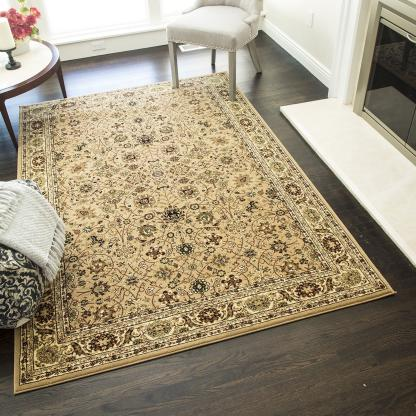Carpet: (15, 70, 393, 391)
